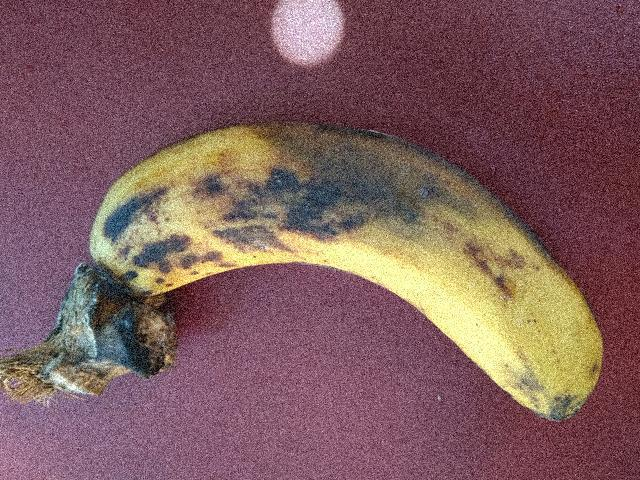rotten: (71, 114, 601, 434)
